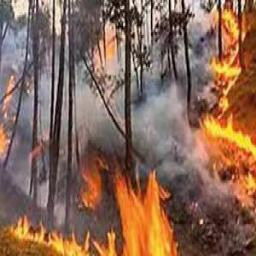Low smoke: (2, 24, 215, 202)
Medium fire: (0, 0, 255, 255)
